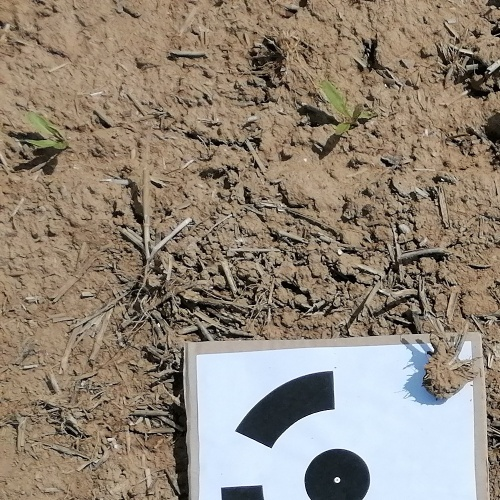beet: (321, 79, 365, 138), (22, 110, 71, 156)
